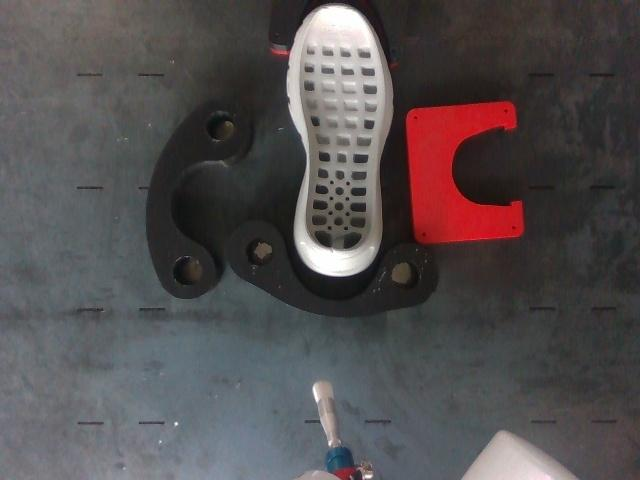shoes: (300, 6, 384, 252)
